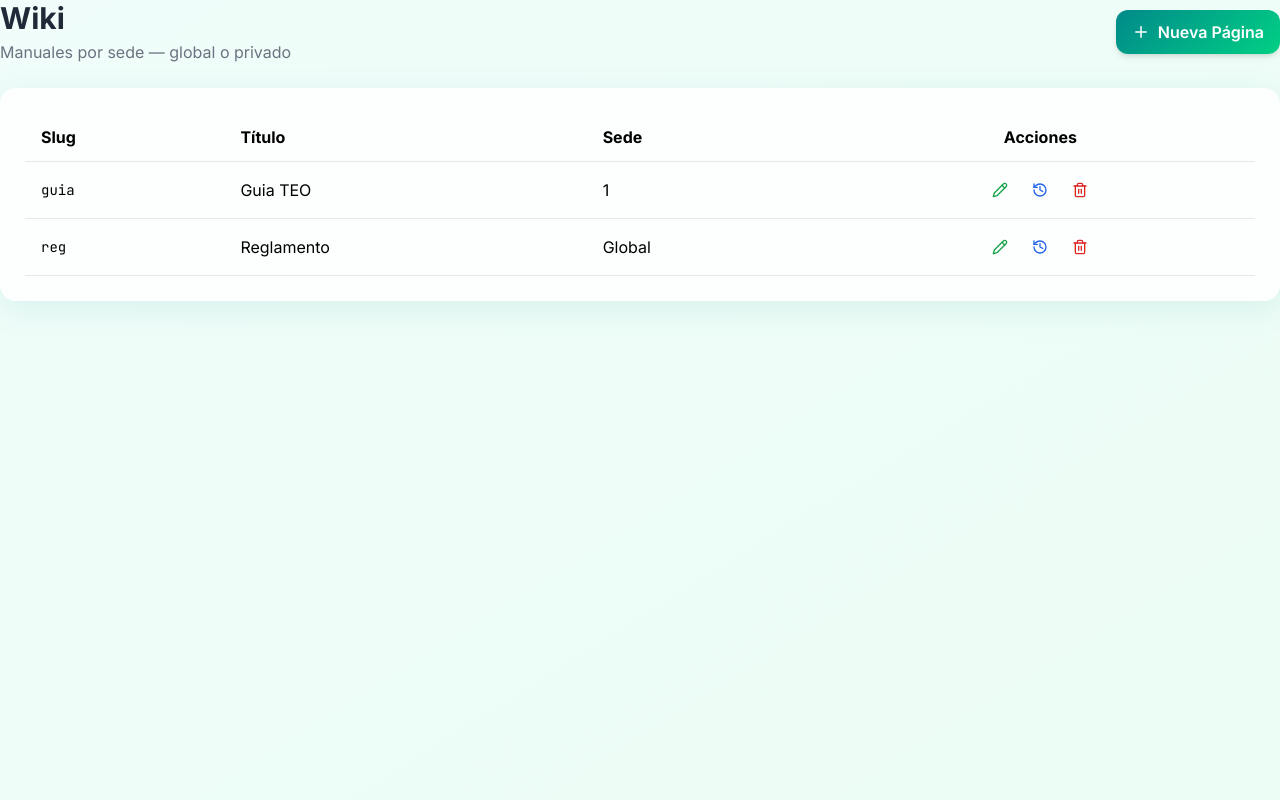
WikiAdmin CRUD + history + attachments › tiene selector de sede y campo slug/title/body
Expected: the text "Guia TEO" is shown, [224,162,587,218]
Click the button "Nueva Página".
click(1198, 32)  # box [1116,10,1279,54]
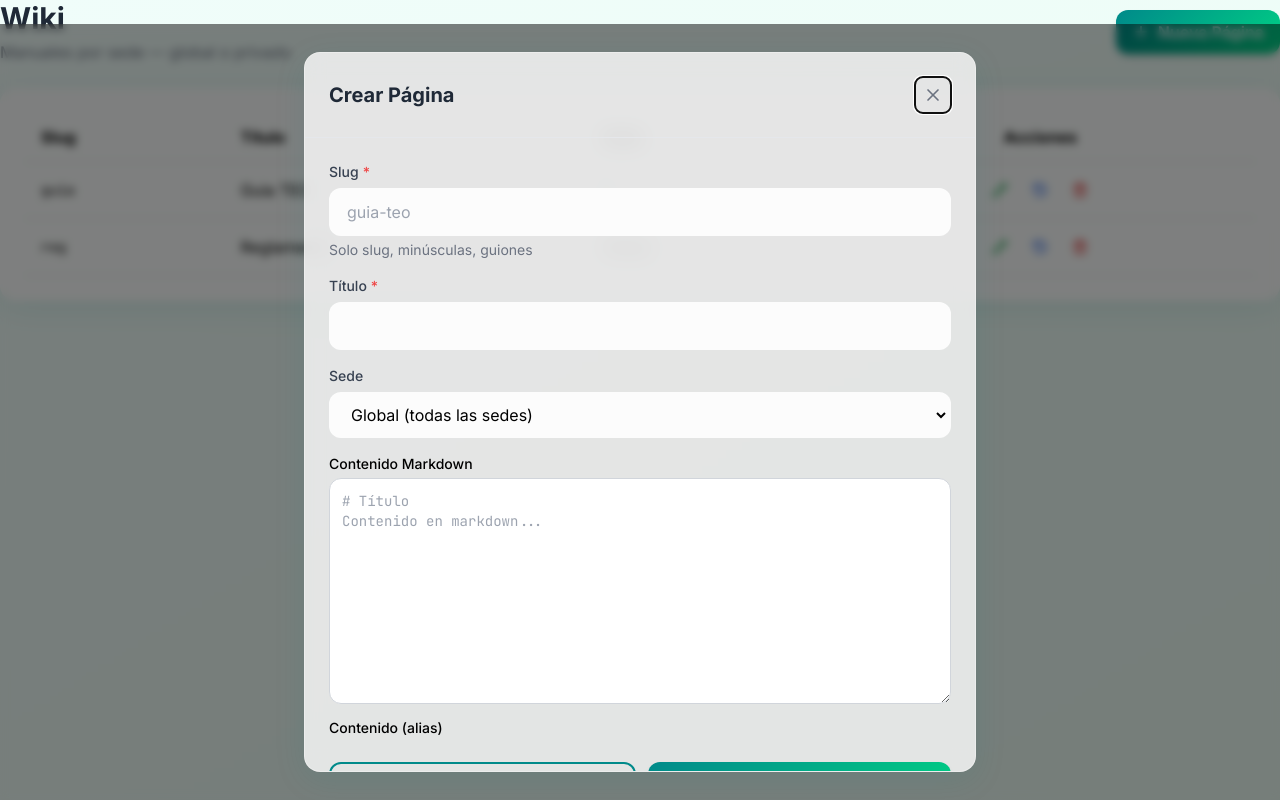
Expected: the field labelled "Slug*" is shown, [329,188,951,236]
Expected: the field labelled "Título*" is shown, [329,302,951,350]
Expected: the text box named "Body" is shown, [329,478,951,704]
